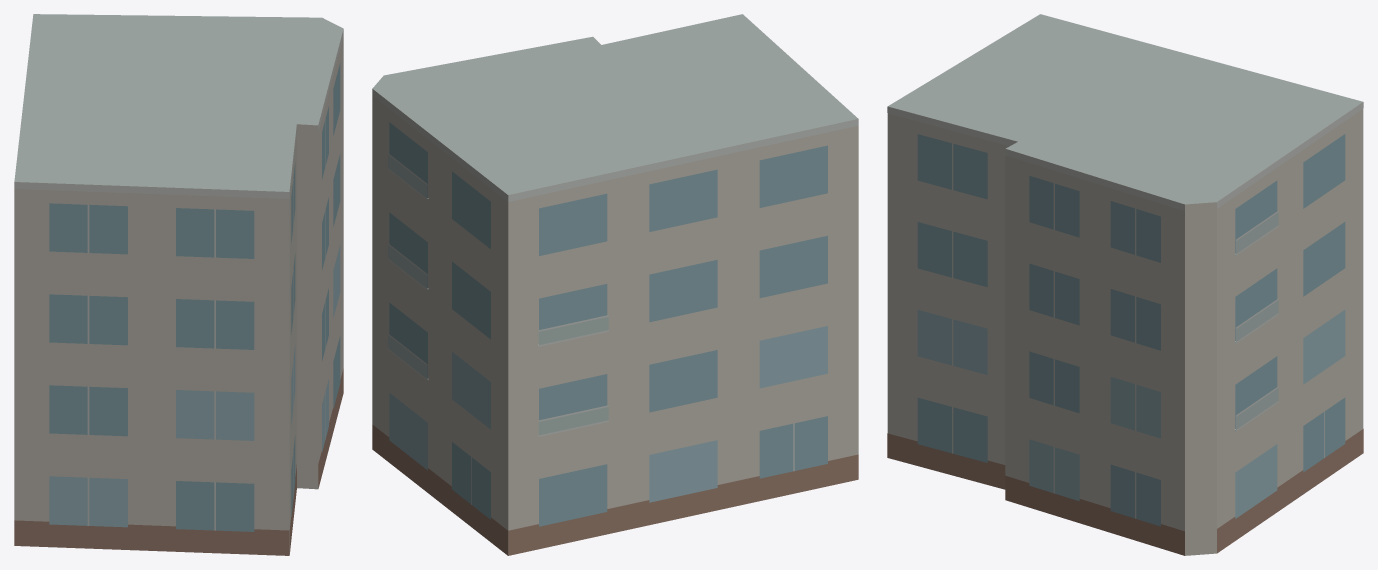
Rendered from survey-upis-32749471.glb.
The picture shows the model from 3 angles, left to right: view 1: azimuth 30°, elevation 25°; view 2: azimuth 150°, elevation 25°; view 3: azimuth 270°, elevation 25°; orthographic projection. The views are drawn at different scales.
Parts seen in each view (by area): view 1: survey-upis-32749471.tmp; view 2: survey-upis-32749471.tmp; view 3: survey-upis-32749471.tmp.
Part boxes in pixels (box(x1,y1,x2,y2)): survey-upis-32749471.tmp: box(14, 14, 343, 555); survey-upis-32749471.tmp: box(372, 14, 858, 555); survey-upis-32749471.tmp: box(887, 14, 1363, 555).
Size of the model in its own units: 14.89 by 12.8 by 15.72.
